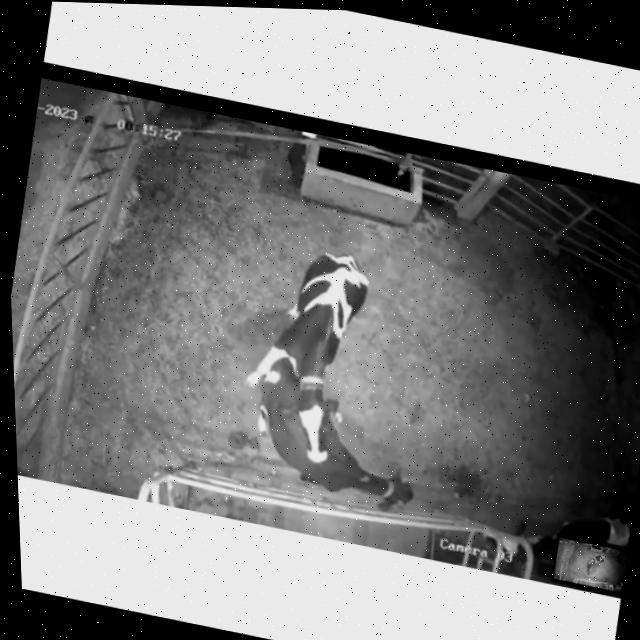propping: (273, 361, 364, 482)
